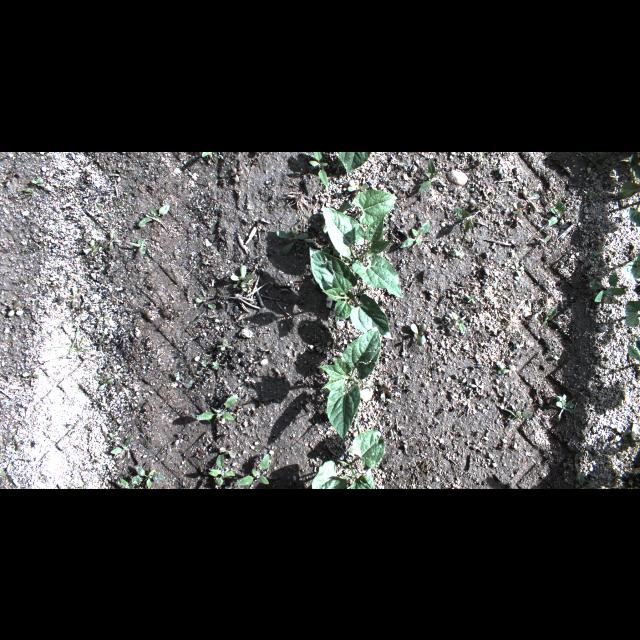crop: (323, 190, 403, 298), (309, 246, 391, 340), (319, 326, 381, 439), (311, 428, 385, 488), (338, 151, 372, 173), (621, 252, 639, 278), (624, 300, 640, 326)
weed: (41, 324, 89, 364), (617, 152, 639, 226), (196, 394, 238, 420), (236, 453, 270, 485), (589, 271, 625, 301), (276, 226, 314, 254), (417, 157, 447, 191), (322, 202, 352, 232), (400, 218, 428, 248), (209, 454, 235, 486), (454, 208, 486, 232), (552, 393, 578, 422), (137, 202, 169, 225), (135, 464, 165, 488), (230, 264, 253, 292), (310, 151, 328, 185), (194, 354, 220, 376), (81, 236, 111, 254), (503, 409, 533, 427), (548, 196, 566, 226), (110, 436, 134, 454), (522, 186, 540, 210), (448, 310, 466, 332), (587, 152, 609, 170), (374, 378, 392, 399), (1, 464, 18, 486), (411, 322, 427, 344), (105, 230, 122, 250), (510, 260, 524, 284), (322, 240, 342, 256), (540, 306, 556, 326), (576, 472, 596, 488), (563, 452, 579, 472), (627, 336, 639, 362), (121, 474, 143, 488), (194, 297, 216, 311), (68, 285, 80, 307), (347, 178, 369, 190), (130, 238, 146, 254), (8, 300, 24, 316), (512, 200, 528, 216), (110, 168, 128, 182), (22, 372, 40, 386), (470, 376, 484, 394), (616, 426, 630, 442), (216, 338, 234, 350), (432, 240, 450, 252), (538, 234, 556, 246), (230, 166, 243, 182), (98, 378, 114, 390), (13, 434, 23, 452), (533, 387, 543, 405), (504, 365, 516, 377), (94, 374, 108, 384), (108, 432, 119, 442), (31, 177, 44, 185), (497, 364, 507, 374), (454, 245, 464, 255), (464, 294, 474, 302), (202, 151, 214, 157)
